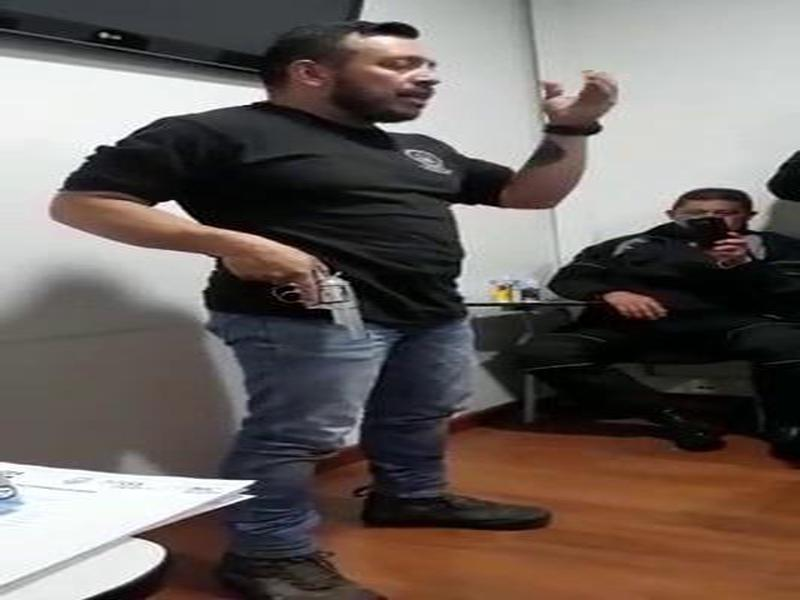Revolver: (266, 240, 379, 358)
